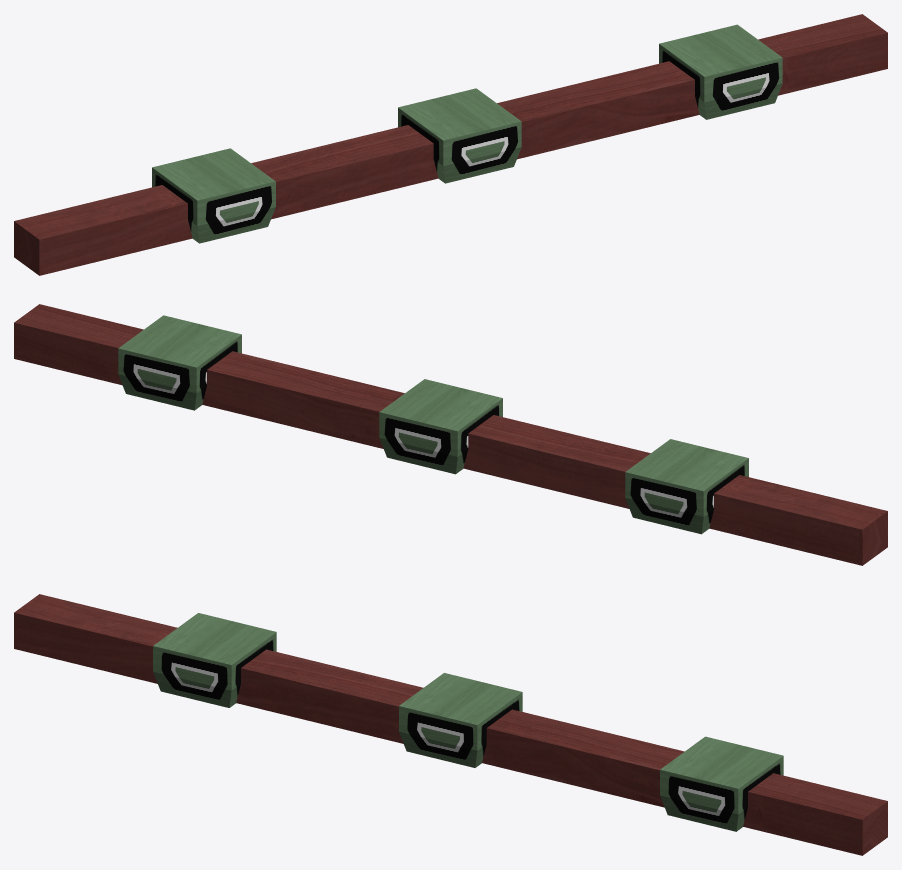
File: SM_SJJ_HG_Soro02C.fbx
3 views of the same model, one above another, from view 1: azimuth 30°, elevation 25°; view 2: azimuth 150°, elevation 25°; view 3: azimuth 330°, elevation 25° (orthographic).
Visible parts, largest first — view 1: SM_SJJ_HG_Soro02C; view 2: SM_SJJ_HG_Soro02C; view 3: SM_SJJ_HG_Soro02C.
Boxes of the visible parts, x1,y1,x2,y2 form: SM_SJJ_HG_Soro02C: (14,14,887,275); SM_SJJ_HG_Soro02C: (14,304,887,565); SM_SJJ_HG_Soro02C: (14,594,887,855).
Bounding box in the file's own units: 155 × 14.29 × 8.06.
1 material, 1 textured.
